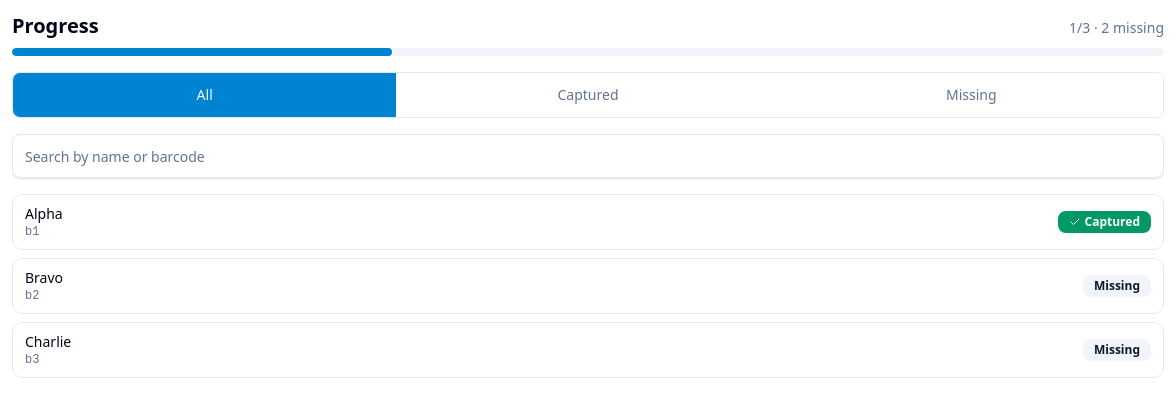
Progress page › search narrows the list by name
Check: the button "Alpha b1 Captured" is shown, box [12,194,1164,250]
Step 1. Type "brav" into the field named "Search SKUs" → (588, 156), box [12,134,1164,178]
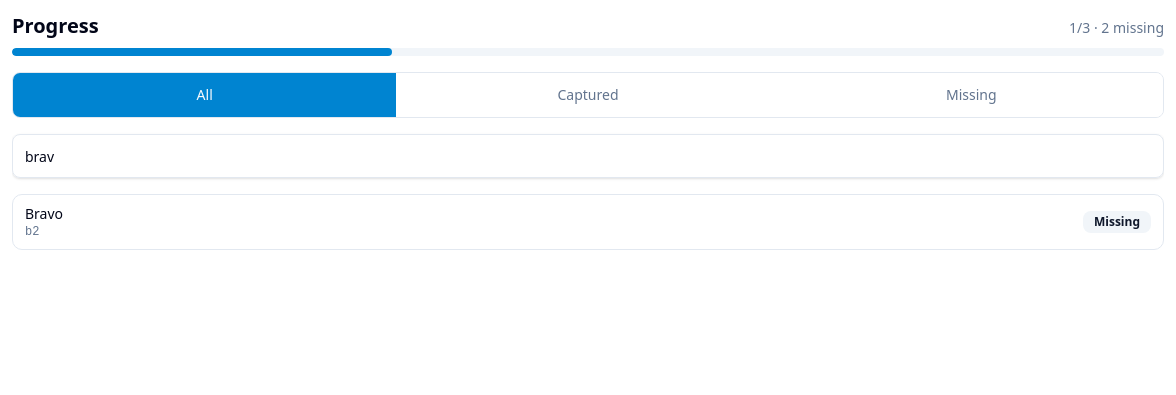
Check: the button "Bravo b2 Missing" is shown, box [12,194,1164,250]
Check: the button "Alpha" is gone
